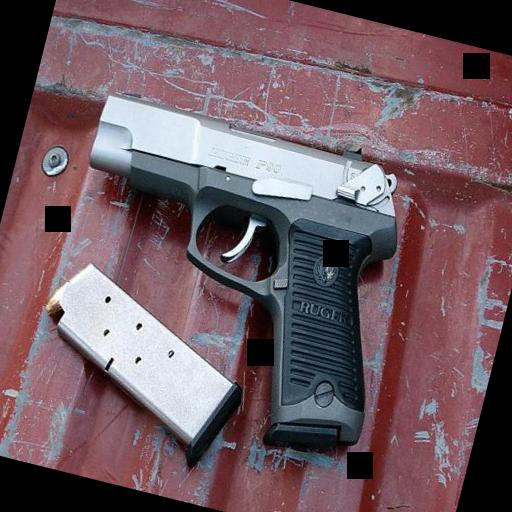Handgun: (30, 79, 430, 463)
